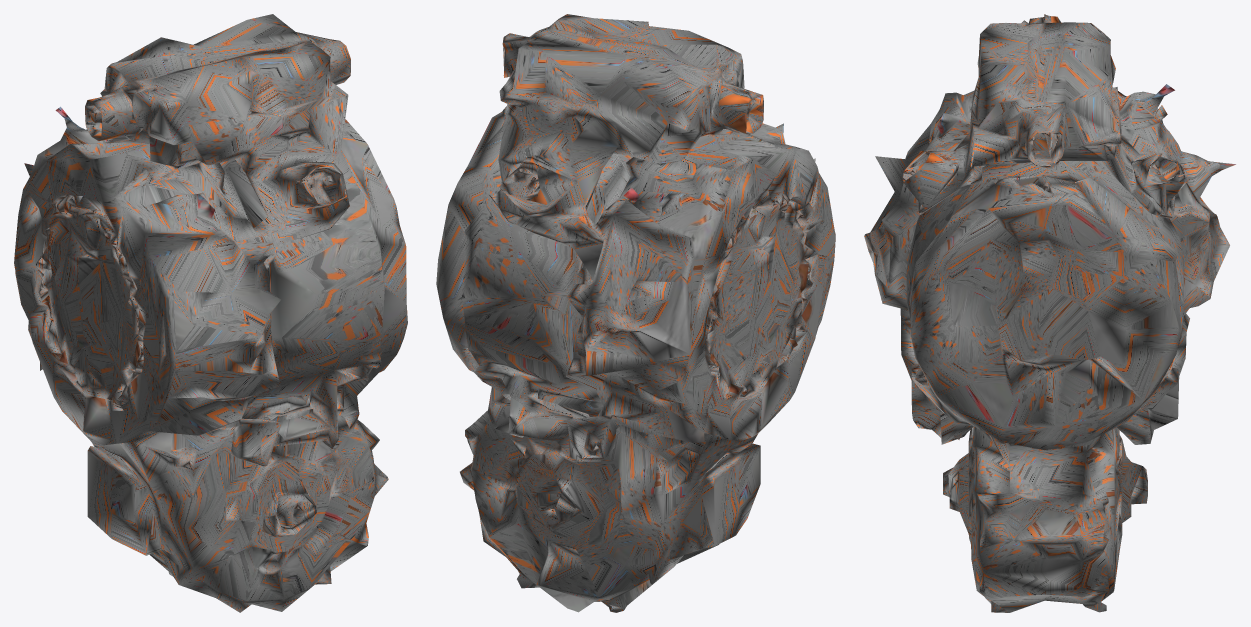
File: motor-listrik-far.glb
3 renders of one model, left to right at view 1: azimuth 30°, elevation 25°; view 2: azimuth 150°, elevation 25°; view 3: azimuth 270°, elevation 25°, orthographic. The views are drawn at different scales.
Bounding box in the file's own units: 1.01 × 1.9 × 1.2.
1 material, 1 textured.
